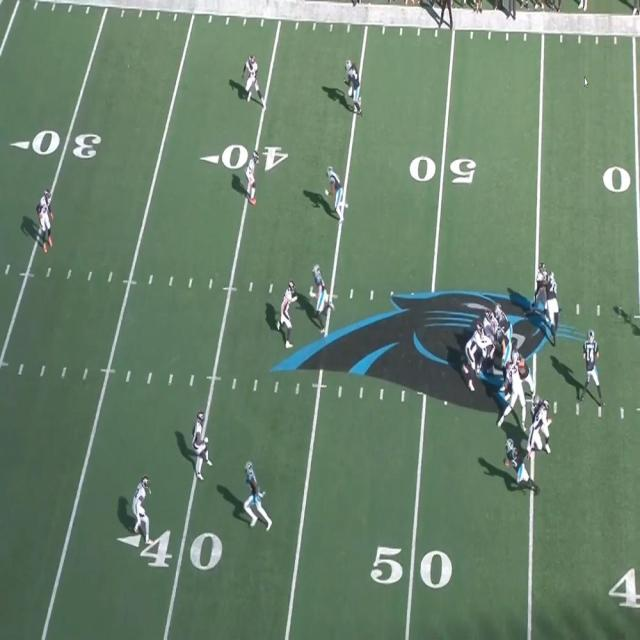db: (133, 476, 150, 541), (37, 187, 53, 246), (195, 413, 208, 477), (328, 166, 344, 217), (347, 58, 362, 110), (247, 56, 261, 106), (248, 154, 260, 204)
lb: (277, 277, 295, 346)
qb: (585, 328, 598, 402)
skill: (247, 461, 266, 530), (308, 264, 326, 324), (508, 437, 526, 488)
